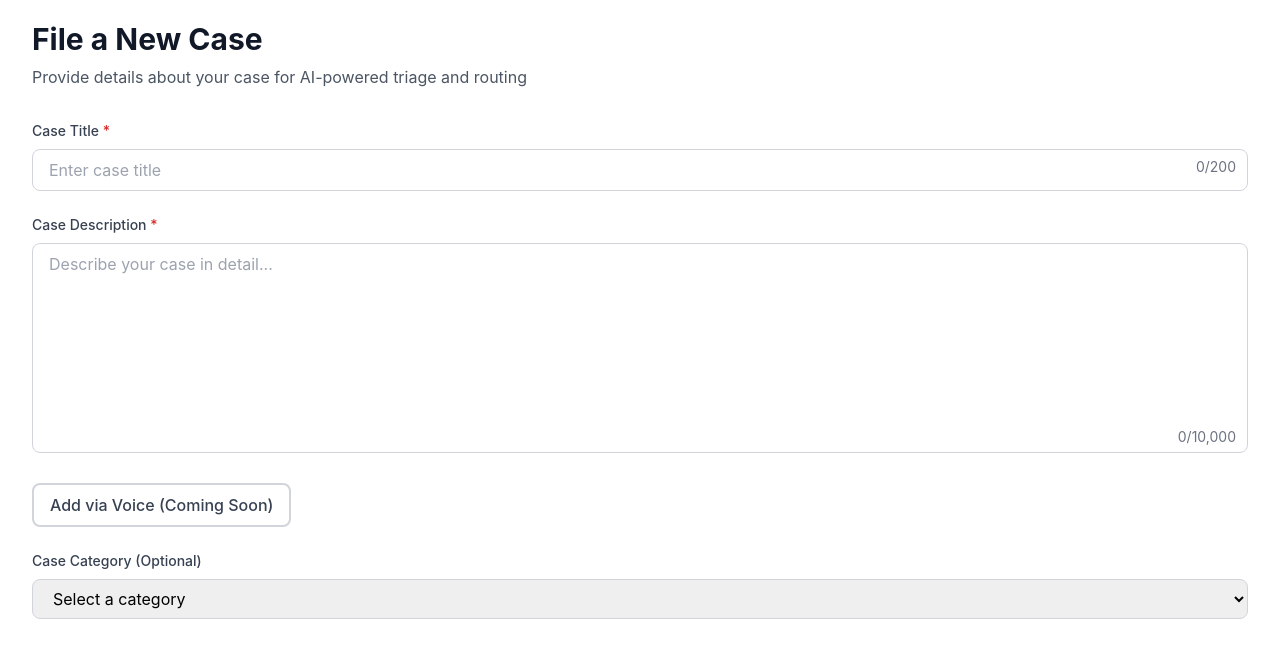
Test: CaseForm › should display validation error when description is empty
Type "Test Case" into the field with placeholder "Enter case title". click: (640, 170)
box: [32,149,1248,191]
(page scrolled)
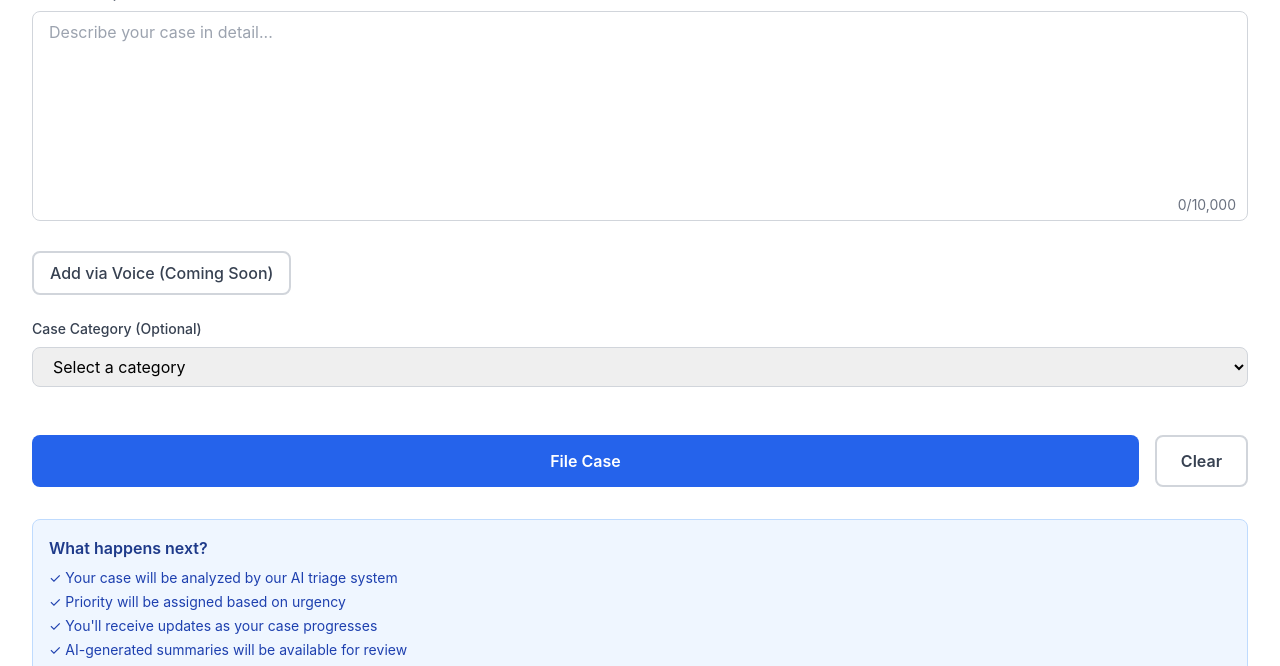
Click the button "File Case". click: (585, 461)
box: [32,435,1139,487]
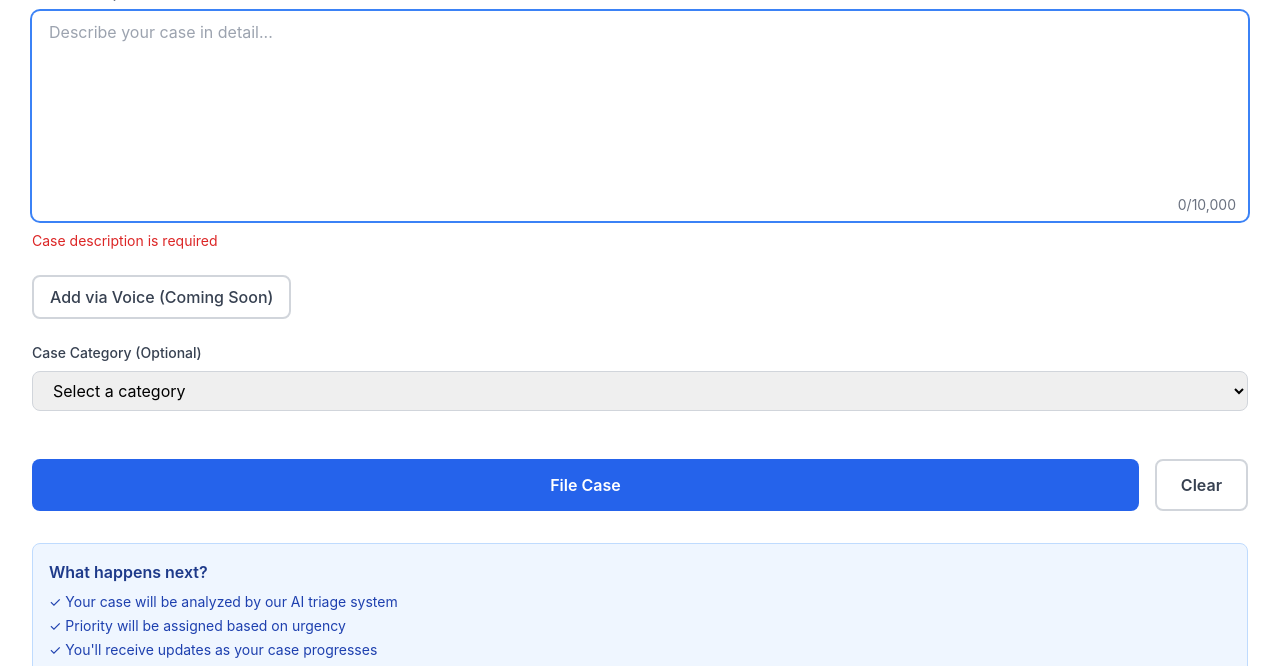
Now the text "Case description is required" is shown, box [32,232,218,249]
